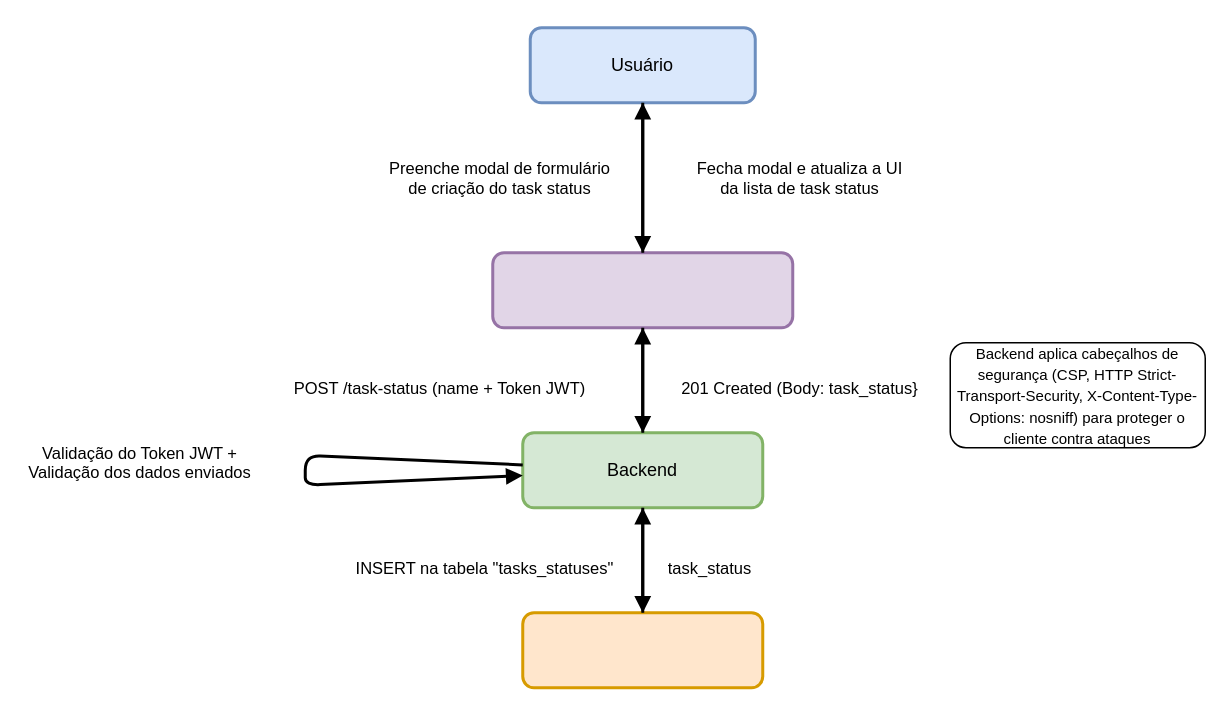
The diagram is 1232 pixels wide and 714 high, and some of its shapes have lost their labels. Here are the shapes that lost their labels. From the top down, the centre of each, then its label:
At point (642, 289): "Frontend/Navegador".
At point (642, 649): "Banco de Dados".
